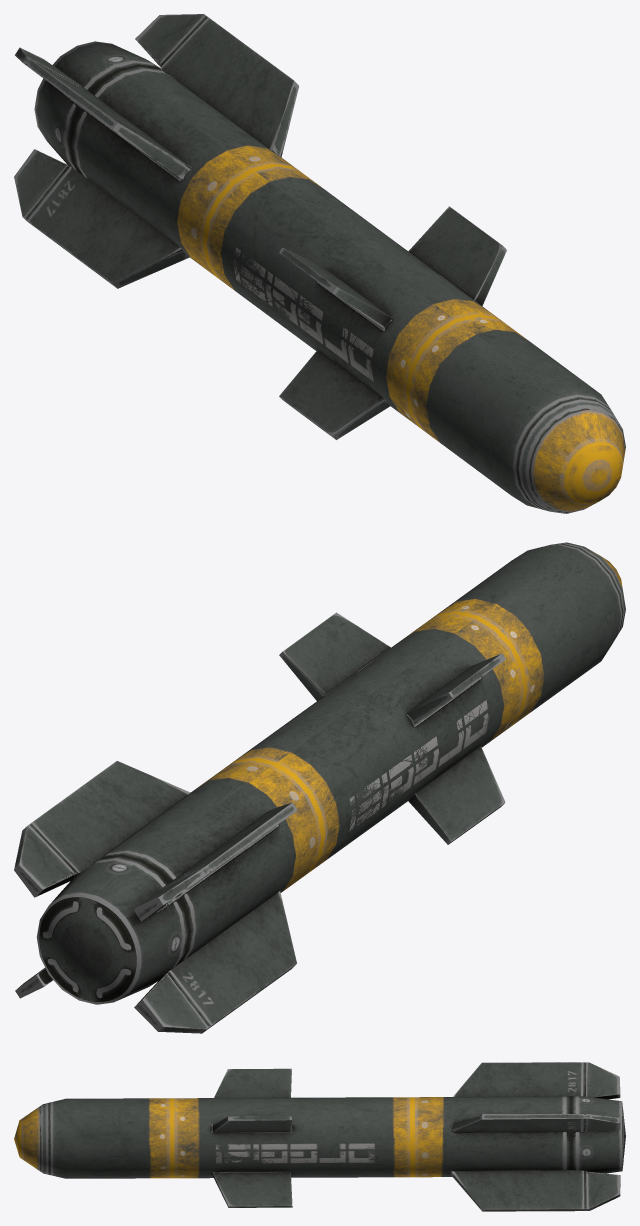
The model's file is LASERGUIDEDBOMB.glb.
3 renders of one model, top to bottom at view 1: azimuth 30°, elevation 25°; view 2: azimuth 150°, elevation 25°; view 3: azimuth 270°, elevation 25°, orthographic. The views are drawn at different scales.
Visible parts, largest first — view 1: Bomb_lp; view 2: Bomb_lp; view 3: Bomb_lp.
Part boxes in pixels (bbox=[...]): Bomb_lp: bbox=[14, 14, 625, 513]; Bomb_lp: bbox=[14, 542, 625, 1033]; Bomb_lp: bbox=[14, 1062, 625, 1211].
Size of the model in its own units: 0.4182 by 0.3582 by 2.01.
Materials: 1 (1 with a texture image).
